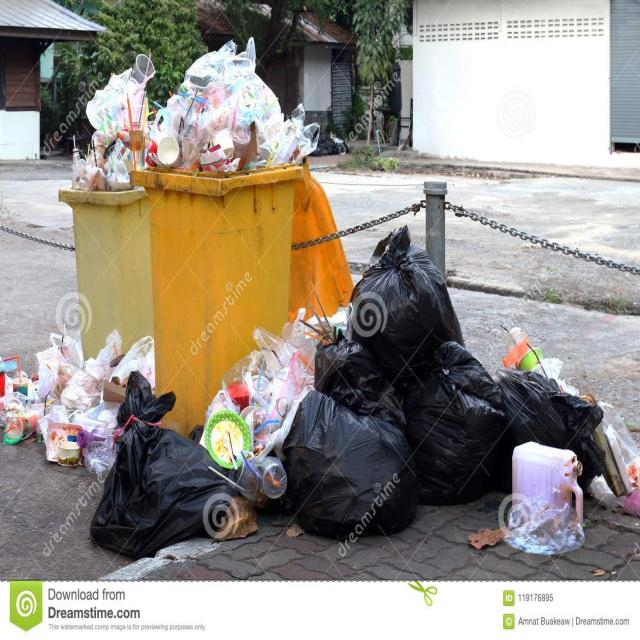plastic_bag: (104, 365, 214, 550), (298, 404, 414, 528), (424, 370, 507, 499), (356, 258, 450, 351), (508, 362, 593, 455), (316, 340, 381, 398)
